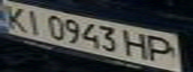0: (42, 12, 66, 42)
3: (96, 24, 121, 55)
4: (78, 20, 100, 51)
9: (60, 16, 84, 45)
H: (121, 28, 154, 61)
I: (21, 7, 48, 36)
K: (0, 2, 30, 33)
P: (145, 33, 181, 64)
